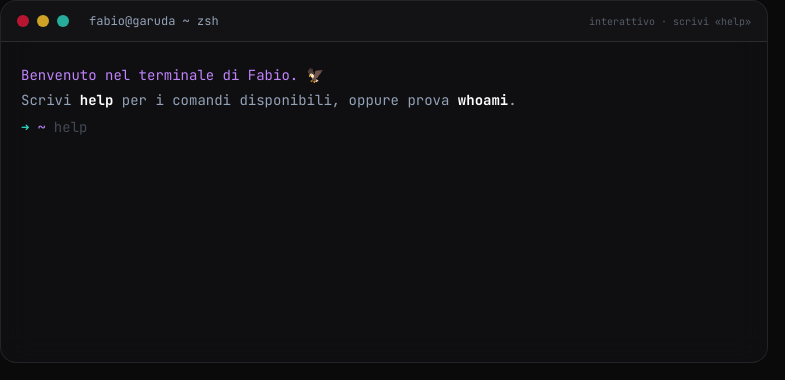
Terminal interattivo › clear pulisce lo schermo
In the field named "Terminale interattivo": (400, 127) x1=54 y1=116 x2=747 y2=138, type "clear"
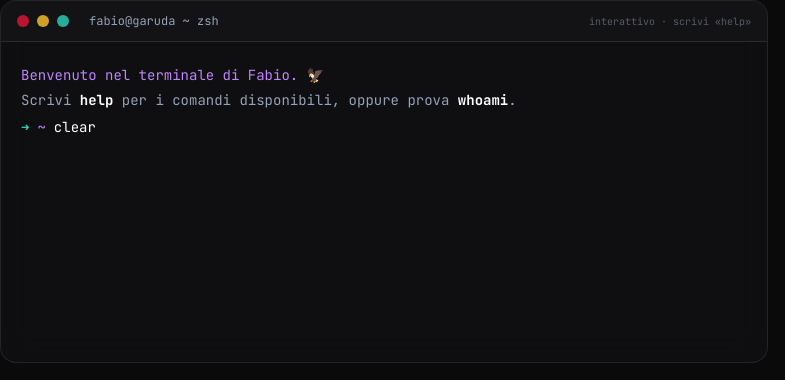
Press Enter in the field named "Terminale interattivo", box x1=54 y1=116 x2=747 y2=138
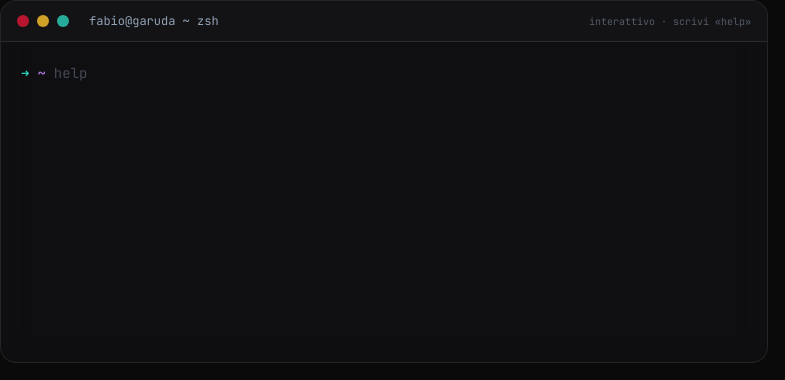
Result: the text "Benvenuto nel terminale di Fabio" is gone
